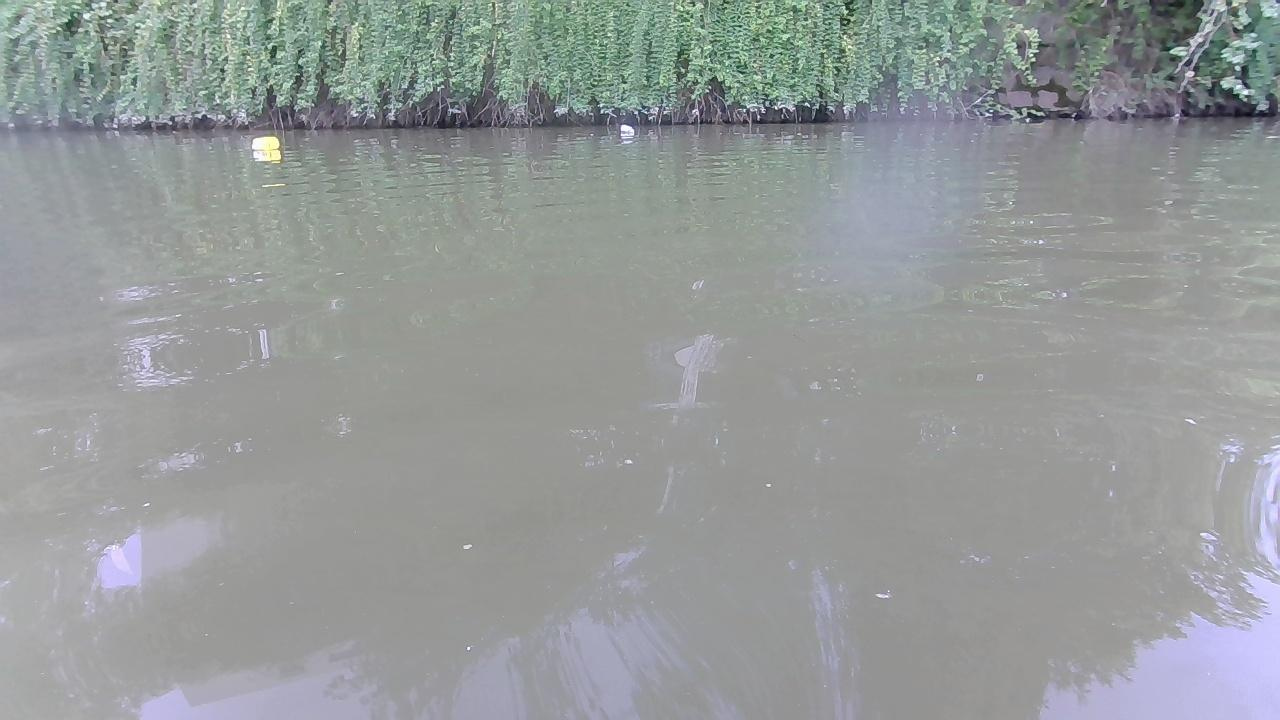bottle: (246, 135, 281, 150), (617, 122, 640, 133)
